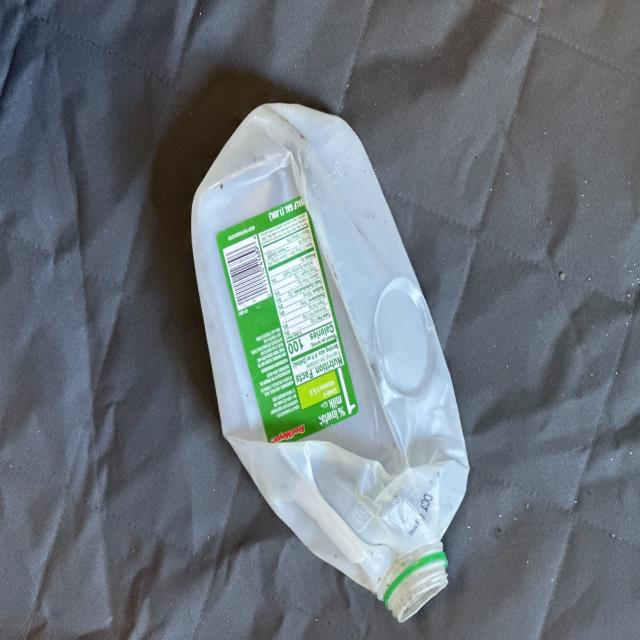milk-jug: (193, 100, 471, 622)
